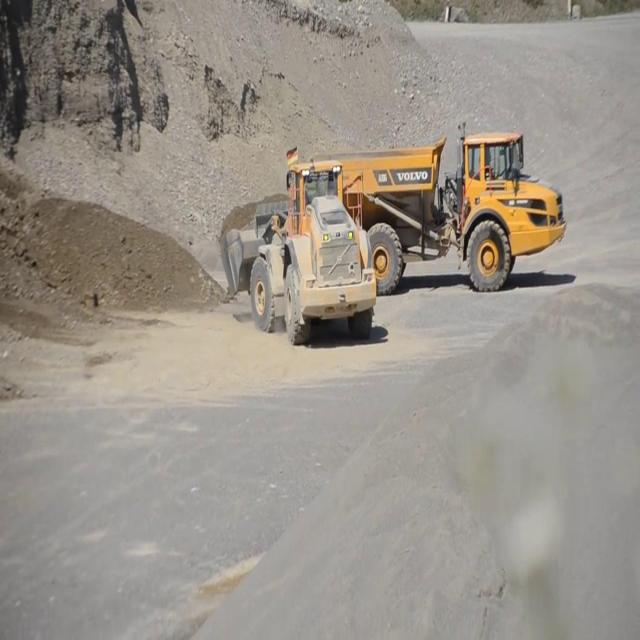buldozerpayloadergrader: (214, 151, 378, 350)
dump_truck: (286, 115, 568, 298)
